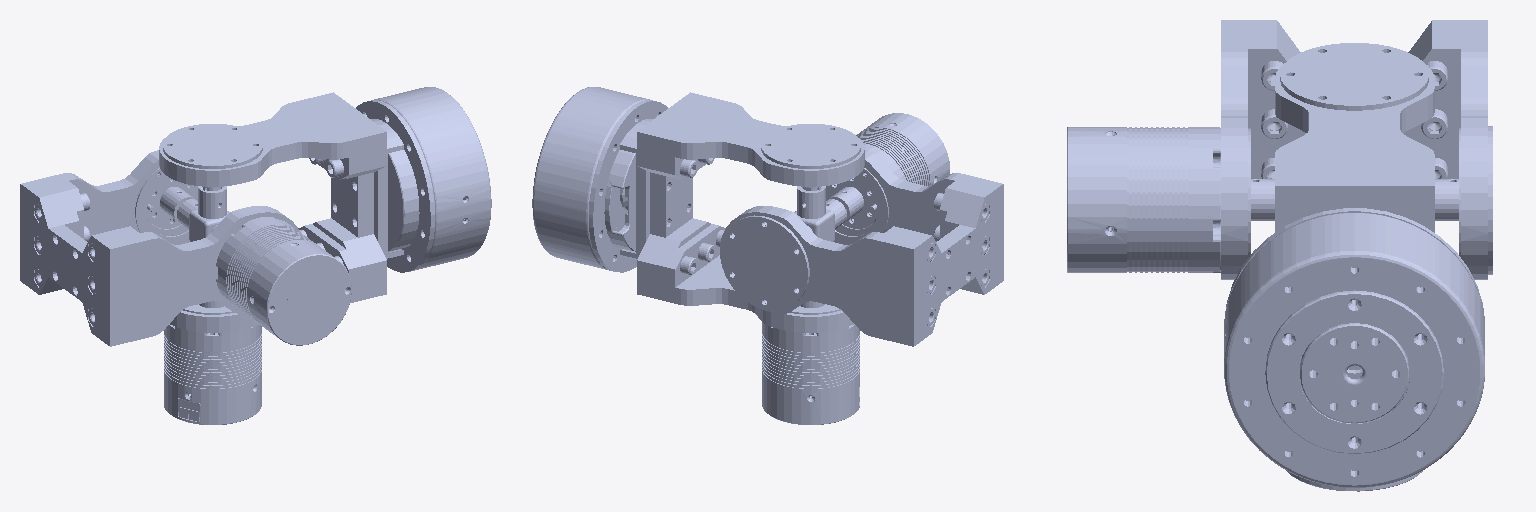
robot.urdf — LRMate_with_EndEffector:
<?xml version="1.0"?>
<robot name="LRMate_with_EndEffector">
	<material name="Yellow">
		<color rgba="1.0  1.0  0.0  1.0"/>
	</material>
	<material name="Black">
		<color rgba="0.0  0.0  0.0  1.0"/>
	</material>
	<material name="Gray">
		<color rgba="0.5  0.5  0.5  1.0"/>
	</material>
	<material name="White">
		<color rgba="1.0  1.0  1.0  1.0"/>
	</material>

	<link name="world">
	</link>

	<joint name="base_joint" type="fixed">
		<origin xyz="0.0 -0.8 0.0" rpy="0.0 0.0 0.0"/>
		<parent link="world"/>
		<child link="base"/>
	</joint>

	<link name="base">
		<inertial>
			<origin xyz="0.0  0.0  0.0" rpy="0.0  0.0  0.0"/>
			<mass value="0.1"/>
			<inertia ixx="0.0"  ixy="0.0"  ixz="0.0" iyy="0.0" iyz="0.0" izz="0.0" />
		</inertial>
		<visual name="base">
			<origin xyz="0.000   0.0   0.330" rpy="0.0  0.0  0.0"/>
			<geometry>
				<mesh filename="CAD/base.stl" scale="0.001   0.001   0.001"/>
			</geometry>
			<material name="Gray"/>
		</visual>
		<collision>
			<origin xyz="0.000   0.0   0.330" rpy="0.0  0.0  0.0"/>
			<geometry>
				<mesh filename="CAD/base.stl" scale="0.001   0.001   0.001"/>
			</geometry>
		</collision>
	</link>
	<joint name="joint_1" type="revolute">
		<origin xyz="0.000   0.000   0.330" rpy="0.0000000000000000    0.0000000000000000    0.0000000000000000"/>
		<parent link="base"/>
		<child link="link_1"/>
		<axis xyz="0 0 1"/>
		<limit effort="224.1470270270270646" lower="-3.1415926535897931" upper="3.1415926535897931" velocity="0.8726646259971648"/>
	</joint>
	<link name="link_1">
		<inertial>
			<origin xyz="0.0185909590000000    0.0033700950000000   -0.0770907100000000" rpy="-1.5707963267948966    0.0000000000000000    0.0000000000000000"/>
			<mass value="2.3984700000000001"/>
			<inertia ixx="0.0233179728630000"  ixy="0.0000000000000000"  ixz="0.0000000000000000" iyy="0.0193776178710000" iyz="0.0000000000000000" izz="0.0139141526340000" />
		</inertial>
		<visual name="link_1">
			<origin xyz="0.050   0.000   0.000" rpy="-1.5707963267948966    0.0000000000000000    0.0000000000000000"/>
			<geometry>
				<mesh filename="CAD/link1.stl" scale="0.001   0.001   0.001"/>
			</geometry>
			<material name="Yellow"/>
		</visual>
		<collision>
			<origin xyz="0.050   0.000   0.000" rpy="-1.5707963267948966    0.0000000000000000    0.0000000000000000"/>
			<geometry>
				<mesh filename="CAD/link1.stl" scale="0.001   0.001   0.001"/>
			</geometry>
		</collision>
	</link>
	<joint name="joint_2" type="revolute">
		<origin xyz="0.050   0.000   0.000" rpy="-1.5707963267948966    0.0000000000000000    0.0000000000000000"/>
		<parent link="link_1"/>
		<child link="link_2"/>
		<axis xyz="0 0 1"/>
		<limit effort="236.6760000000000161" lower="-3.1415926535897931" upper="3.1415926535897931" velocity="0.8726646259971648"/>
	</joint>
	<link name="link_2">
		<inertial>
			<origin xyz="-0.0071079890000000   -0.1326139250000000    0.0247800790000000" rpy="3.1415926535897931    0.0000000000000000   -1.5707963267948966"/>
			<mass value="7.8018689999999999"/>
			<inertia ixx="0.0328971739050000"  ixy="0.0000000000000000"  ixz="0.0000000000000000" iyy="0.2070365793270000" iyz="0.0000000000000000" izz="0.1883991938960000" />
		</inertial>
		<visual name="link_2">
			<origin xyz="0.000  -0.440   0.000" rpy="3.1415926535897931    0.0000000000000000   -1.5707963267948966"/>
			<geometry>
				<mesh filename="CAD/link2.stl" scale="0.001   0.001   0.001"/>
			</geometry>
			<material name="Yellow"/>
		</visual>
		<collision>
			<origin xyz="0.000  -0.440   0.000" rpy="3.1415926535897931    0.0000000000000000   -1.5707963267948966"/>
			<geometry>
				<mesh filename="CAD/link2.stl" scale="0.001   0.001   0.001"/>
			</geometry>
		</collision>
	</link>
	<joint name="joint_3" type="revolute">
		<origin xyz="0.000  -0.440   0.000" rpy="3.1415926535897931    0.0000000000000000   -1.5707963267948966"/>
		<parent link="link_2"/>
		<child link="link_3"/>
		<axis xyz="0 0 1"/>
		<limit effort="94.9241379310344939" lower="-3.1415926535897931" upper="3.1415926535897931" velocity="0.8726646259971648"/>
	</joint>
	<link name="link_3">
		<inertial>
			<origin xyz="0.0057931330000000   -0.0059066300000000   -0.0207324280000000" rpy="-1.5707963267948966    0.0000000000000000    0.0000000000000000"/>
			<mass value="2.9847210000000000"/>
			<inertia ixx="0.0081019474240000"  ixy="0.0000000000000000"  ixz="0.0000000000000000" iyy="0.0068697082660000" iyz="0.0000000000000000" izz="0.0079818513480000" />
		</inertial>
		<visual name="link_3">
			<origin xyz="0.035   0.000   0.000" rpy="-1.5707963267948966    0.0000000000000000    0.0000000000000000"/>
			<geometry>
				<mesh filename="CAD/link3.stl" scale="0.001   0.001   0.001"/>
			</geometry>
			<material name="Yellow"/>
		</visual>
		<collision>
			<origin xyz="0.035   0.000   0.000" rpy="-1.5707963267948966    0.0000000000000000    0.0000000000000000"/>
			<geometry>
				<mesh filename="CAD/link3.stl" scale="0.001   0.001   0.001"/>
			</geometry>
		</collision>
	</link>
	<joint name="joint_4" type="revolute">
		<origin xyz="0.035   0.000   0.000" rpy="-1.5707963267948966    0.0000000000000000    0.0000000000000000"/>
		<parent link="link_3"/>
		<child link="link_4"/>
		<axis xyz="0 0 1"/>
		<limit effort="23.8998260869565229" lower="-3.1415926535897931" upper="3.1415926535897931" velocity="0.8726646259971648"/>
	</joint>
	<link name="link_4">
		<inertial>
			<origin xyz="-0.0002457140000000    0.0028224150000000   -0.2060611280000000" rpy="1.5707963267948966    0.0000000000000000    0.0000000000000000"/>
			<mass value="4.1441780000000001"/>
			<inertia ixx="0.0529101059260000"  ixy="0.0000000000000000"  ixz="0.0000000000000000" iyy="0.0057046189630000" iyz="0.0000000000000000" izz="0.0531509714450000" />
		</inertial>
		<visual name="link_4">
			<origin xyz="0.000   0.000  -0.420" rpy="1.5707963267948966    0.0000000000000000    0.0000000000000000"/>
			<geometry>
				<mesh filename="CAD/link4.stl" scale="0.001   0.001   0.001"/>
			</geometry>
			<material name="Yellow"/>
		</visual>
		<collision>
			<origin xyz="0.000   0.000  -0.420" rpy="1.5707963267948966    0.0000000000000000    0.0000000000000000"/>
			<geometry>
				<mesh filename="CAD/link4.stl" scale="0.001   0.001   0.001"/>
			</geometry>
		</collision>
	</link>
	<joint name="joint_5" type="revolute">
		<origin xyz="0.000   0.000  -0.420" rpy="1.5707963267948966    0.0000000000000000    0.0000000000000000"/>
		<parent link="link_4"/>
		<child link="link_5"/>
		<axis xyz="0 0 1"/>
		<limit effort="13.8166666666666664" lower="-3.1415926535897931" upper="3.1415926535897931" velocity="0.8726646259971648"/>
	</joint>
	<link name="link_5">
		<inertial>
			<origin xyz="0.0000480440000000   -0.0273839680000000   -0.0044381510000000" rpy="-1.5707963267948966    0.0000000000000000    0.0000000000000000"/>
			<mass value="1.7004200000000000"/>
			<inertia ixx="0.0024795564500000"  ixy="0.0000000000000000"  ixz="0.0000000000000000" iyy="0.0024375453070000" iyz="0.0000000000000000" izz="0.0012003431970000" />
		</inertial>
		<visual name="link_5">
			<origin xyz="0.000   0.000   0.000" rpy="-1.5707963267948966    0.0000000000000000    0.0000000000000000"/>
			<geometry>
				<mesh filename="CAD/link5.stl" scale="0.001   0.001   0.001"/>
			</geometry>
			<material name="Yellow"/>
		</visual>
		<collision>
			<origin xyz="0.000   0.000   0.000" rpy="-1.5707963267948966    0.0000000000000000    0.0000000000000000"/>
			<geometry>
				<mesh filename="CAD/link5.stl" scale="0.001   0.001   0.001"/>
			</geometry>
		</collision>
	</link>

	<joint name="joint_6" type="revolute">
		<origin xyz="0.000   0.000   0.000" rpy="-1.5707963267948966    0.0000000000000000    0.0000000000000000"/>
		<parent link="link_5"/>
		<child link="link_6"/>
		<axis xyz="0 0 1"/>
		<limit effort="6.8606896551724139" lower="-3.1415926535897931" upper="3.1415926535897931" velocity="0.8726646259971648"/>
	</joint>

	<link name="link_6">
		<inertial>
			<origin xyz="-0.0001200000000000    0.0000000000000000   -0.0705300000000000" rpy="3.1415926535897931    0.0000000000000000    0.0000000000000000"/>
			<mass value="0.1700000000000000"/>
			<inertia ixx="0.0000318000000000"  ixy="0.0000000000000000"  ixz="0.0000000000000000" iyy="0.0000315000000000" iyz="0.0000000000000000" izz="0.0000542000000000" />
		</inertial>
		<visual name="link_6">
			<origin xyz="0.000   0.000  -0.080" rpy="3.1415926535897931    0.0000000000000000    0.0000000000000000"/>
			<geometry>
				<mesh filename="CAD/link6.stl" scale="0.001   0.001   0.001"/>
			</geometry>
			<material name="Black"/>
		</visual>
		<collision>
			<origin xyz="0.000   0.000  -0.080" rpy="3.1415926535897931    0.0000000000000000    0.0000000000000000"/>
			<geometry>
				<mesh filename="CAD/link6.stl" scale="0.001   0.001   0.001"/>
			</geometry>
		</collision>
	</link>

	<link
			name="link_7">
			<inertial>
				<origin
					xyz="-0.000171290787506451 -0.0126337869897863 -0.0467905644521243"
					rpy="0 0 0" />
				<mass
					value="0.202658732194319" />
				<inertia
					ixx="0.000178003296111042"
					ixy="-7.20767067814015E-07"
					ixz="3.28576002264937E-08"
					iyy="0.000173700123084307"
					iyz="-4.75095298964073E-08"
					izz="0.000101568163160412" />
			</inertial>
			<visual>
				<origin
					xyz="0 0 0"
					rpy="0 0 0" />
				<geometry>
					<mesh
						filename="meshes/unijoint_base_link.STL" />
				</geometry>
				<material
					name="">
					<color
						rgba="0.792156862745098 0.819607843137255 0.933333333333333 1" />
				</material>
			</visual>
			<collision>
				<origin
					xyz="0 0 0"
					rpy="0 0 0" />
				<geometry>
					<mesh
						filename="meshes/unijoint_base_link.STL" />
				</geometry>
			</collision>
		</link>

		<joint name="joint_7" type="fixed">
			<origin xyz="0.0 0.0 -0.08" rpy="0.0 0.0 0.0"/>
			<parent link="link_6"/>
			<child link="link_7"/>
			<axis xyz="0 0 1"/>
			<limit effort="6.8606896551724139" lower="-3.1415926535897931" upper="3.1415926535897931" velocity="0.8726646259971648"/>
		</joint>

		<link
			name="link_8">
			<inertial>
				<origin
					xyz="6.79051554077492E-05 -0.00575946100172549 -0.00575946138603641"
					rpy="0 0 0" />
				<mass
					value="0.0524745804717827" />
				<inertia
					ixx="6.69135756757865E-06"
					ixy="2.56259864151031E-10"
					ixz="-2.56307038990551E-10"
					iyy="5.48021043899282E-06"
					iyz="2.43027171047389E-15"
					izz="5.48021043899282E-06" />
			</inertial>
			<visual>
				<origin
					xyz="0 0 0"
					rpy="0 3.1415926535897931 0" />
				<geometry>
					<mesh
						filename="meshes/unijoint_Link1.STL" />
				</geometry>
				<material
					name="">
					<color
						rgba="0.792156862745098 0.819607843137255 0.933333333333333 1" />
				</material>
			</visual>
			<collision>
				<origin
					xyz="0 0 0"
					rpy="0 0 0" />
				<geometry>
					<mesh
						filename="meshes/unijoint_Link1.STL" />
				</geometry>
			</collision>
		</link>

		<joint
			name="joint_8"
			type="revolute">
			<origin
				xyz="0 0 -0.094926"
				rpy="1.5708 1.5708 0" />
			<parent
				link="link_7" />
			<child
				link="link_8" />
			<axis
				xyz="0 0 1" />
			<limit effort="6.8606896551724139" lower="-3.1415926535897931" upper="3.1415926535897931" velocity="0.8726646259971648"/>
		</joint>

   		<link
			name="link_9">
			<inertial>
				<origin
					xyz="0.0773659766263879 0.000207406896203738 -0.00794899420859538"
					rpy="0 0 0" />
				<mass
					value="0.322114178119608" />
				<inertia
					ixx="0.000247912853840455"
					ixy="-1.47654340615428E-06"
					ixz="-6.47049658171434E-07"
					iyy="0.000280757545430362"
					iyz="-3.18792944742855E-07"
					izz="0.00026367612267725" />
			</inertial>
			<visual>
				<origin
					xyz="0 0 0"
					rpy="0 0 0" />
				<geometry>
					<mesh
						filename="meshes/unijoint_Link2.STL" />
				</geometry>
				<material
					name="">
					<color
						rgba="0.792156862745098 0.819607843137255 0.933333333333333 1" />
				</material>
			</visual>
			<collision>
				<origin
					xyz="0 0 0"
					rpy="0 0 0" />
				<geometry>
					<mesh
						filename="meshes/unijoint_Link2.STL" />
				</geometry>
			</collision>
		</link>

		<joint
			name="joint_9"
			type="revolute">
			<origin
				xyz="0 0 0"
				rpy="-1.5708 0 0" />
			<parent
				link="link_8" />
			<child
				link="link_9" />
			<axis
				xyz="0 0 1" />
			<limit effort="6.8606896551724139" lower="-3.1415926535897931" upper="3.1415926535897931" velocity="0.8726646259971648"/>
		</joint>


    <joint
			name="joint_10"
			type="revolute">
			<origin

				xyz="0.11 0 0"
				rpy="0 0 1.5708" />
			<parent
				link="link_9" />
			<child
				link="gripper_hand" />
			<axis
				xyz="0 1 0" />
			<limit effort="6.8606896551724139" lower="-3.1415926535897931" upper="3.1415926535897931" velocity="0.8726646259971648"/>
		</joint>



    <!-- gripper -->


	<link name="gripper_hand">
		<inertial>
			<origin rpy="0 0 0" xyz="0 0 0.04"/>
			<mass value=".81"/>
			<inertia ixx="0.1" ixy="0" ixz="0" iyy="0.1" iyz="0" izz="0.1"/>
		</inertial>
		<visual>
			<geometry>
				<mesh filename="gripper_2/visual/sensor_hand.stl" scale="0.001 0.001 0.001"/>
			</geometry>
		</visual>
		<collision>
		<geometry>
			<mesh filename="gripper_2/collision/sensor_hand.stl" scale="0.001 0.001 0.001"/>
		</geometry>

		</collision>
  	</link>

  	<link name="gripper_leftfinger">
		<contact>
			<friction_anchor/>
			<stiffness value="30000.0"/>
			<damping value="1000.0"/>
			<spinning_friction value="0.1"/>
			<!-- <rolling_friction value="0.1"/> -->
			<lateral_friction value="1.0"/>
		</contact>
		<inertial>
			<origin rpy="0 0 0" xyz="0 0.01 0.02"/>
			<mass value="0.1"/>
			<inertia ixx="0.1" ixy="0" ixz="0" iyy="0.1" iyz="0" izz="0.1"/>
		</inertial>
		<visual>
			<geometry>
				<mesh filename="gripper_2/visual/finger.stl" scale="0.001 0.001 0.001"/>
			</geometry>
		</visual>
		<collision>
			<geometry>
				<mesh filename="gripper_2/collision/finger.stl" scale="0.001 0.001 0.001"/>
			</geometry>
		</collision>
	</link>

  	<link name="gripper_rightfinger">
    	<contact>
			<friction_anchor/>
			<stiffness value="30000.0"/>
			<damping value="1000.0"/>
			<spinning_friction value="0.1"/>
			<!-- <rolling_friction value="0.1"/> -->
			<lateral_friction value="1.0"/>
		</contact>

  		<inertial>
			<origin rpy="0 0 0" xyz="0 -0.01 0.02"/>
			<mass value="0.1"/>
			<inertia ixx="0.1" ixy="0" ixz="0" iyy="0.1" iyz="0" izz="0.1"/>
		</inertial>
		<visual>
			<origin rpy="0 0 3.14159265359" xyz="0 0 0"/>
			<geometry>
				<mesh filename="gripper_2/visual/finger.stl" scale="0.001 0.001 0.001"/>
			</geometry>
		</visual>
		<collision>
			<origin rpy="0 0 3.14159265359" xyz="0 0 0"/>
			<geometry>
				<mesh filename="gripper_2/collision/finger.stl" scale="0.001 0.001 0.001"/>
			</geometry>
		</collision>
  	</link>


	<joint name="finger_joint1" type="prismatic">
		<parent link="gripper_hand"/>
		<child link="gripper_leftfinger"/>
		<origin rpy="0 -1.5707963267948966 0" xyz="-0.04 -0.150 0"/>
		<axis xyz="0 0 -1"/>
		<limit effort="1000" lower="0.0" upper="0.04" velocity="2.0"/>
	</joint>


	<joint name="finger_joint2" type="prismatic">
		<parent link="gripper_hand"/>
		<child link="gripper_rightfinger"/>
		<origin rpy="3.14159265359 -1.5707963267948966 0" xyz="0.04 -0.150 0"/>
		<axis xyz="0 0 -1"/>
		<limit effort="1000" lower="0.0" upper="0.04" velocity="2.0"/>
		<mimic joint="finger_joint1"/>
	</joint>

	<!-- grasp target -->
	<!-- <link name="grasptarget">
     	<inertial>
      		<origin rpy="0 0 0" xyz="0 0 0"/>
       		<mass value="0.001"/>
       		<inertia ixx="0.1" ixy="0" ixz="0" iyy="0.1" iyz="0" izz="0.1"/>
    	</inertial>
    	<visual>
      		<geometry>
        		<sphere radius="0.003"/>
      		</geometry>
      		<color rgba="1. 0. 0. 1.0"/>
    	</visual>
   </link> -->

	<!-- <joint name="lrmate_grasptarget_hand" type="fixed">
		<parent link="gripper_hand"/>
		<child link="grasptarget"/>
		<origin rpy="1.5707963267948966 -1.5707963267948966 0" xyz="0 -0.245 0"/>
	</joint> -->


</robot>

--- Render facts (derived) ---
The picture shows the robot from 3 angles, left to right: view 1: azimuth 30°, elevation 25°; view 2: azimuth 150°, elevation 25°; view 3: azimuth 270°, elevation 25°; orthographic projection.
Model LRMate_with_EndEffector with 14 links and 13 joints (9 revolute, 2 prismatic, 2 fixed), rooted at world, posed every joint at zero.
Links seen in each view (by area): view 1: link_9, link_7, link_8; view 2: link_9, link_7, link_8; view 3: link_9, link_7, link_8.
Link boxes in pixels (x1,y1,x2,y2): link_9: (159,87,491,424); link_7: (20,150,351,346); link_8: (147,176,229,307); link_9: (532,87,864,424); link_7: (720,113,1003,346); link_8: (794,176,876,307); link_9: (1224,43,1484,491); link_7: (1067,20,1492,279); link_8: (1251,179,1458,220).
Size in the robot's own frame: 0.2495 by 0.16 by 0.16 metres.
3 mesh visuals loaded from 12 distinct referenced files (3 binary STL); not drawn: 10 (reference not matched to a file when rendering).